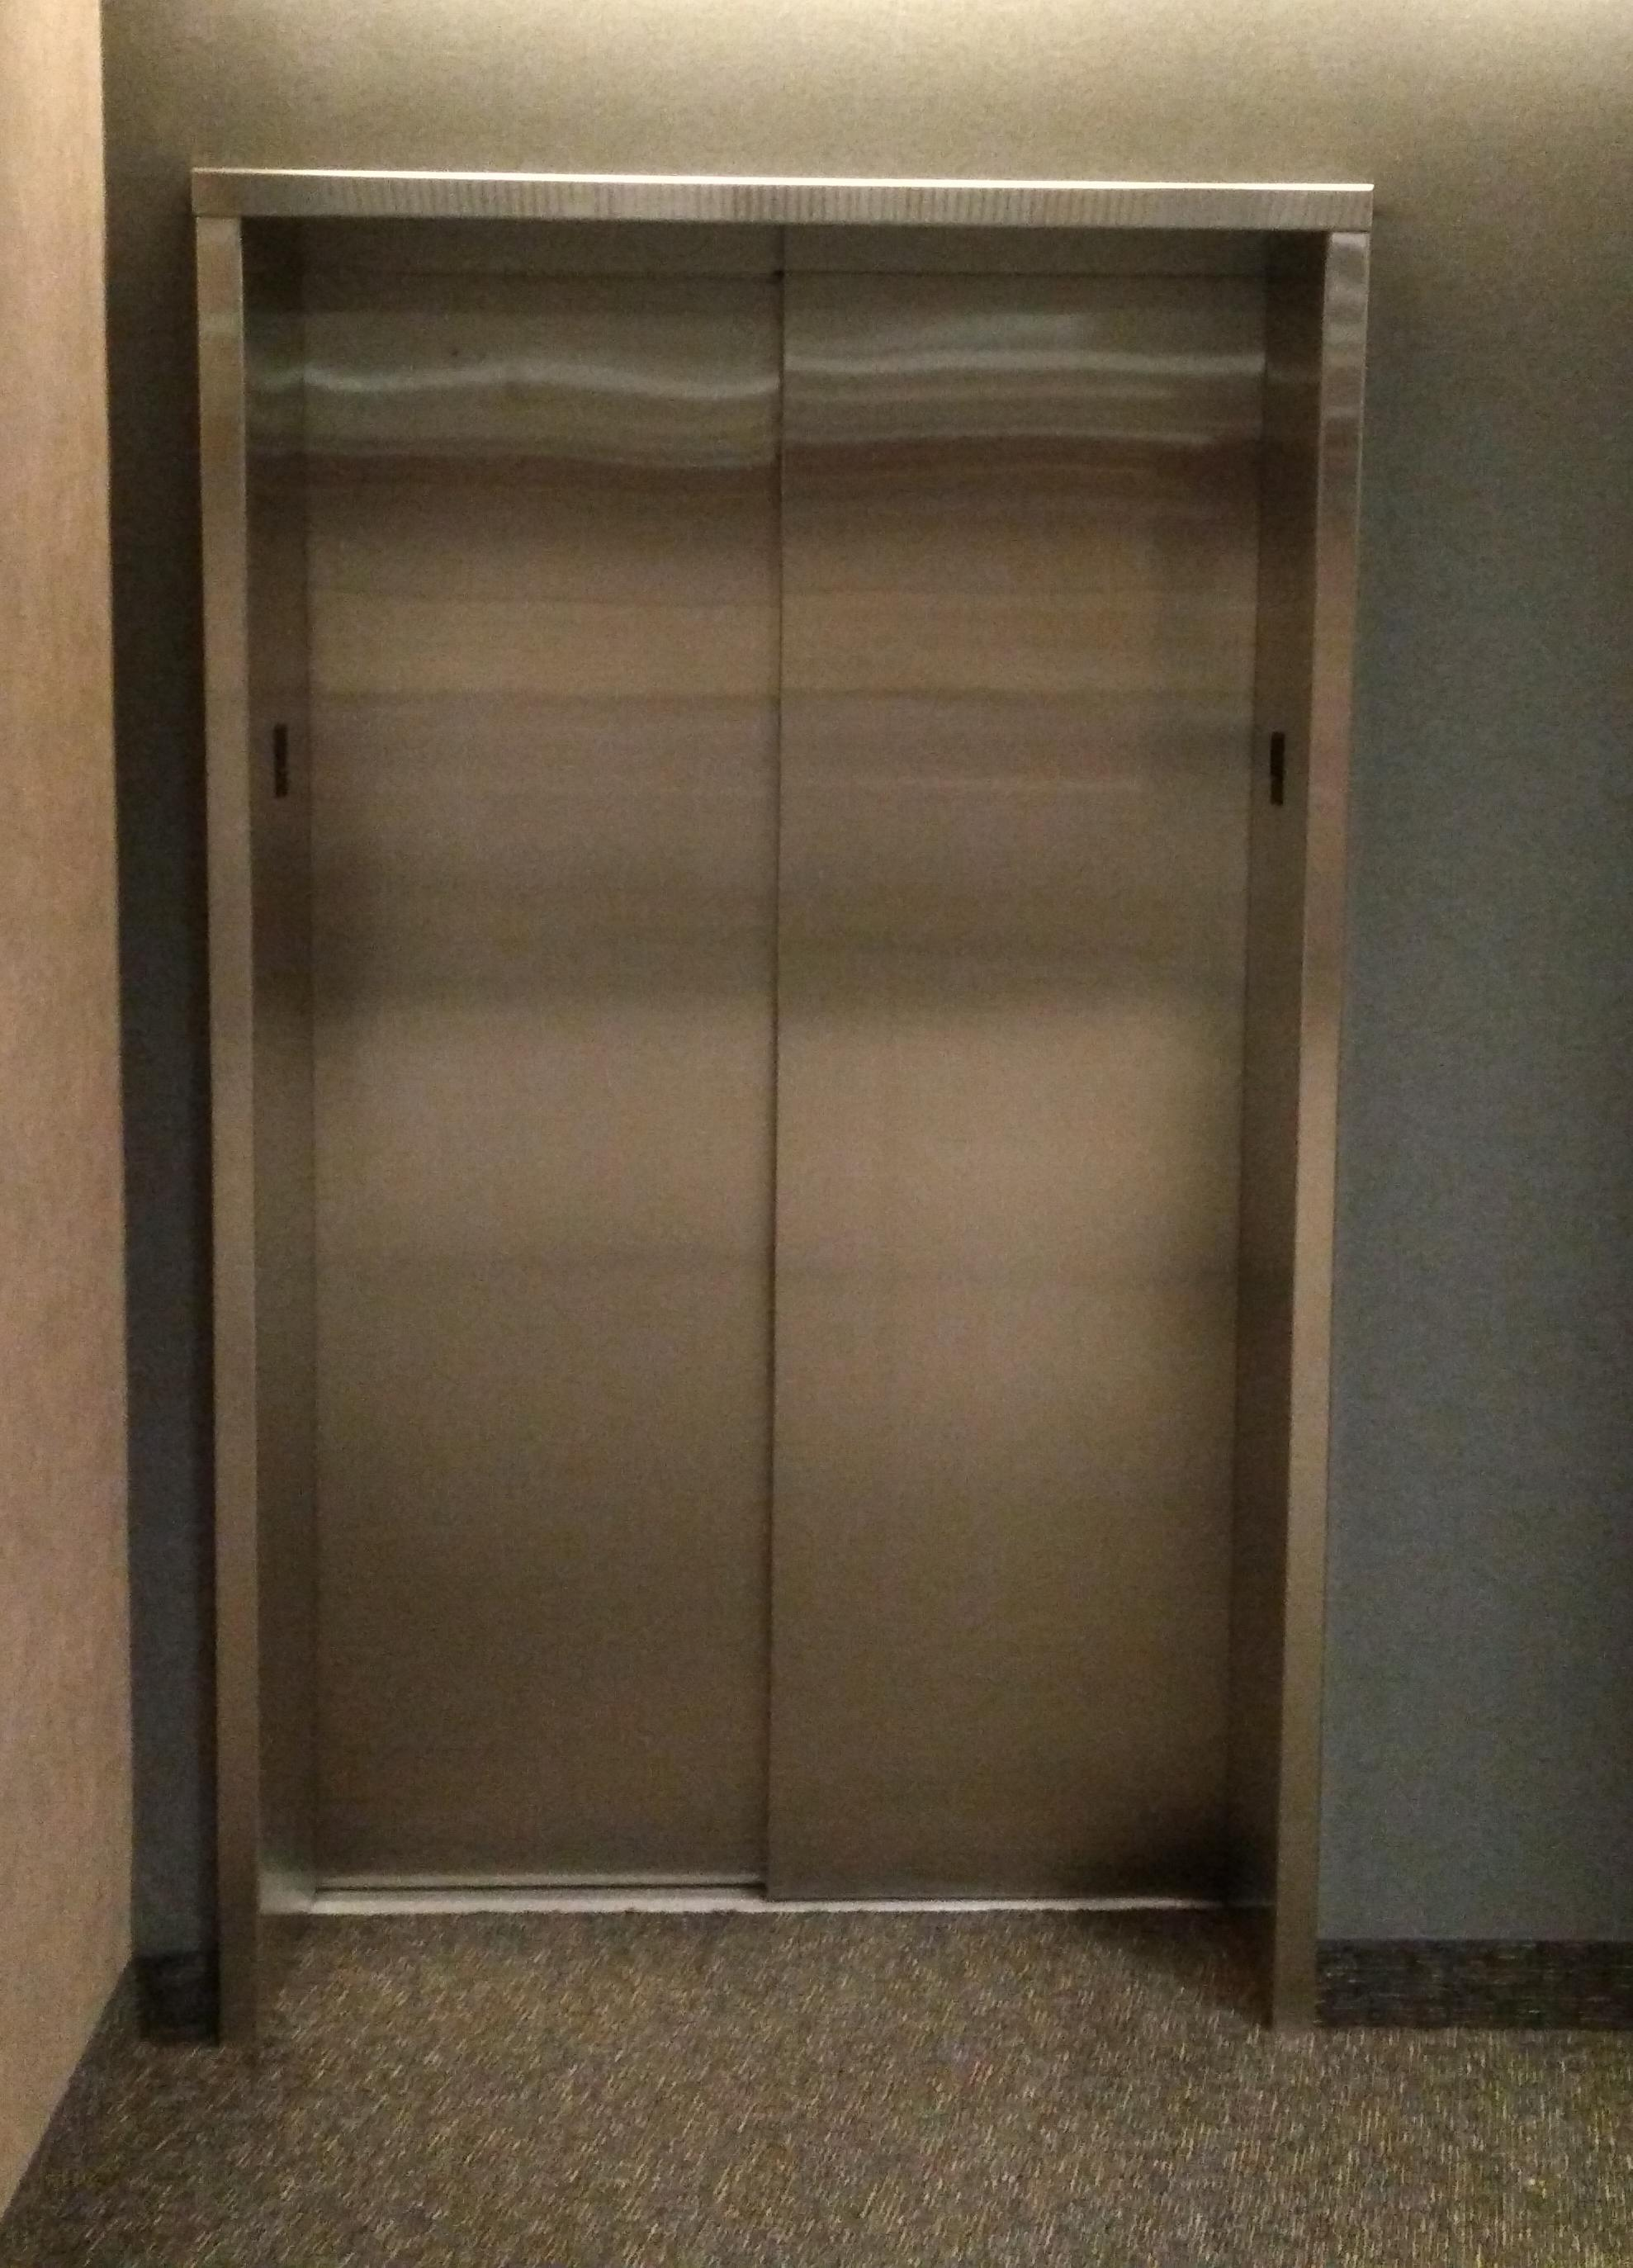door: (192, 166, 1374, 2050)
